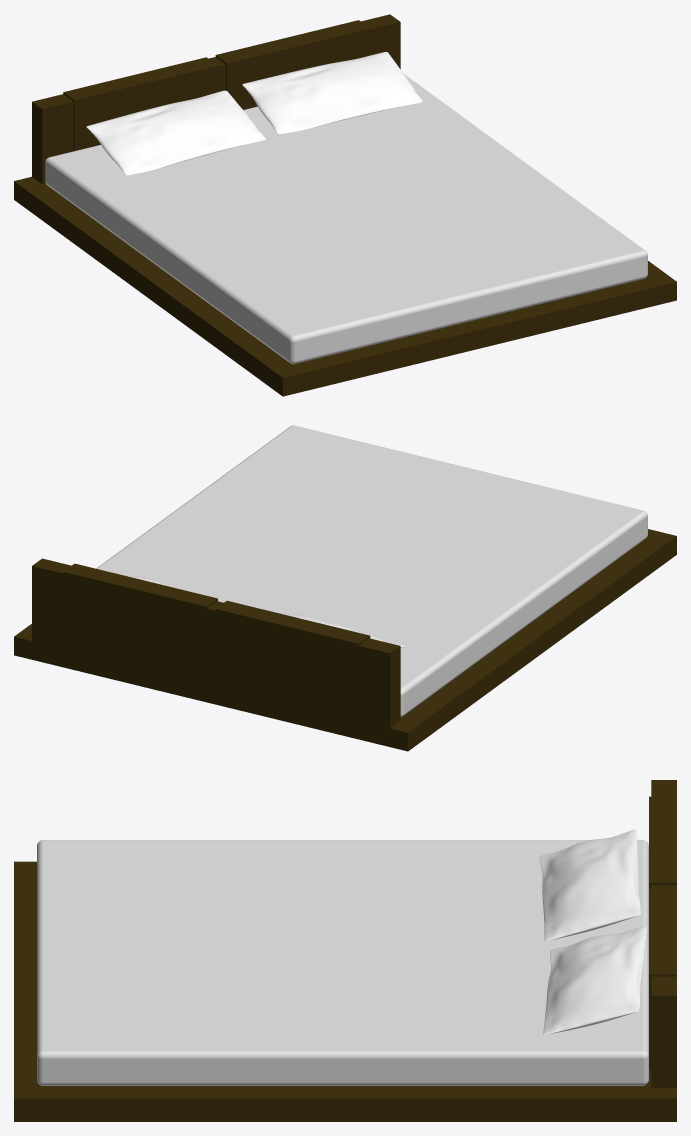
File: bed-05.gltf
3 renders of one model, top to bottom at view 1: azimuth 30°, elevation 25°; view 2: azimuth 150°, elevation 25°; view 3: azimuth 270°, elevation 25°, orthographic. The views are drawn at different scales.
Parts seen in each view (by area): view 1: object_2, object_1, Cube.001, Cube.000; view 2: object_2, object_1; view 3: object_2, object_1, Cube.000, Cube.001.
Boxes of the visible parts, x1,y1,x2,y2 form: object_2: (45, 74, 647, 364); object_1: (14, 14, 676, 396); Cube.001: (242, 52, 422, 134); Cube.000: (86, 90, 265, 175); object_2: (96, 425, 647, 717); object_1: (14, 529, 676, 751); object_2: (37, 840, 648, 1085); object_1: (14, 780, 676, 1121); Cube.000: (539, 829, 640, 941); Cube.001: (543, 926, 646, 1034).
Size of the model in its own units: 186 by 43.15 by 220.
